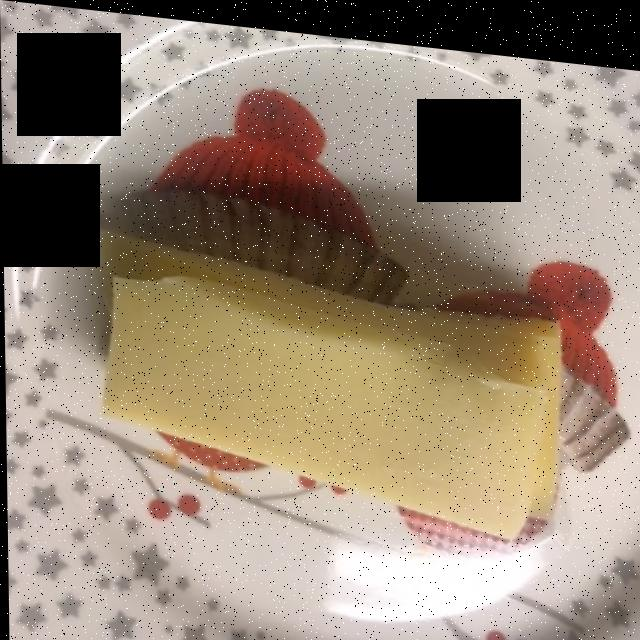cheese: (90, 231, 560, 527)
